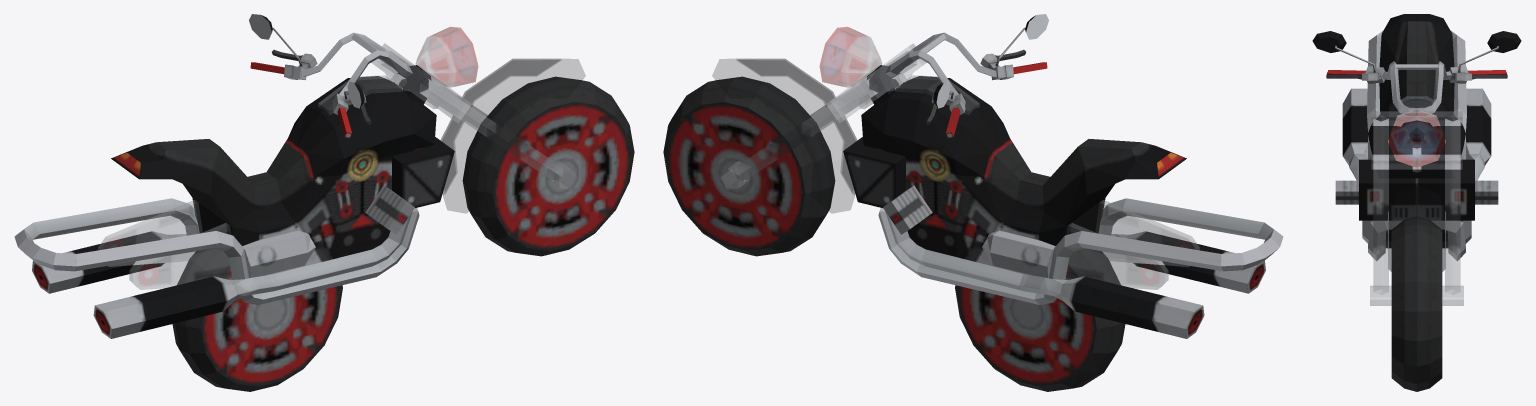
File: Bike.gltf
The picture shows the model from 3 angles, left to right: view 1: azimuth 30°, elevation 25°; view 2: azimuth 150°, elevation 25°; view 3: azimuth 270°, elevation 25°; orthographic projection. The views are drawn at different scales.
Parts seen in each view (by area): view 1: Bike; view 2: Bike; view 3: Bike.
Boxes of the visible parts, x1,y1,x2,y2 form: Bike: (14, 14, 634, 391); Bike: (663, 14, 1283, 391); Bike: (1312, 14, 1521, 391).
Size of the model in its own units: 250 by 128 by 80.49.
Materials: 2 (2 with a texture image).
